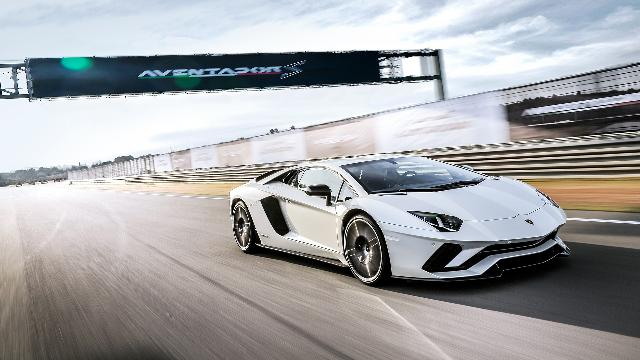lamborghini: (230, 152, 570, 286)
